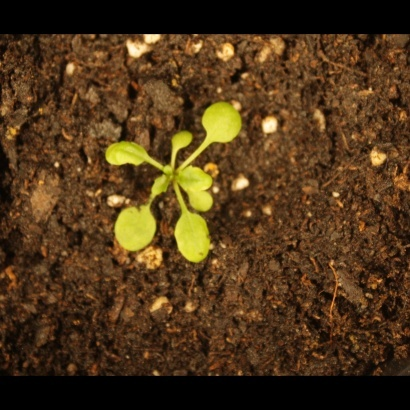leaf: (170, 209, 215, 268), (111, 203, 159, 258), (200, 97, 246, 145), (100, 137, 156, 172), (174, 166, 220, 195), (185, 184, 219, 215), (165, 124, 195, 156), (147, 172, 171, 196)
